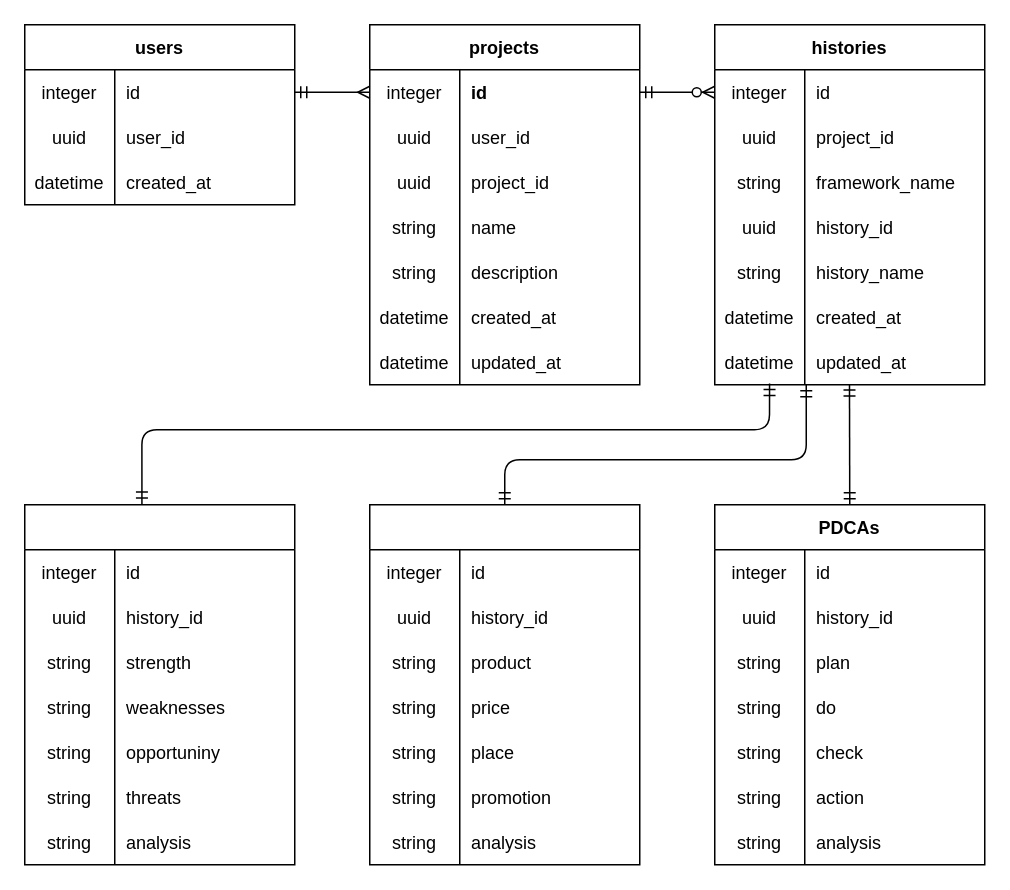
This 1010x890 diagram has some shape labels left out. Here are the shapes that lost their labels. From the top down, the box of each, then its label:
(23, 503, 295, 865): SWOTs
(368, 503, 640, 865): FourPs
